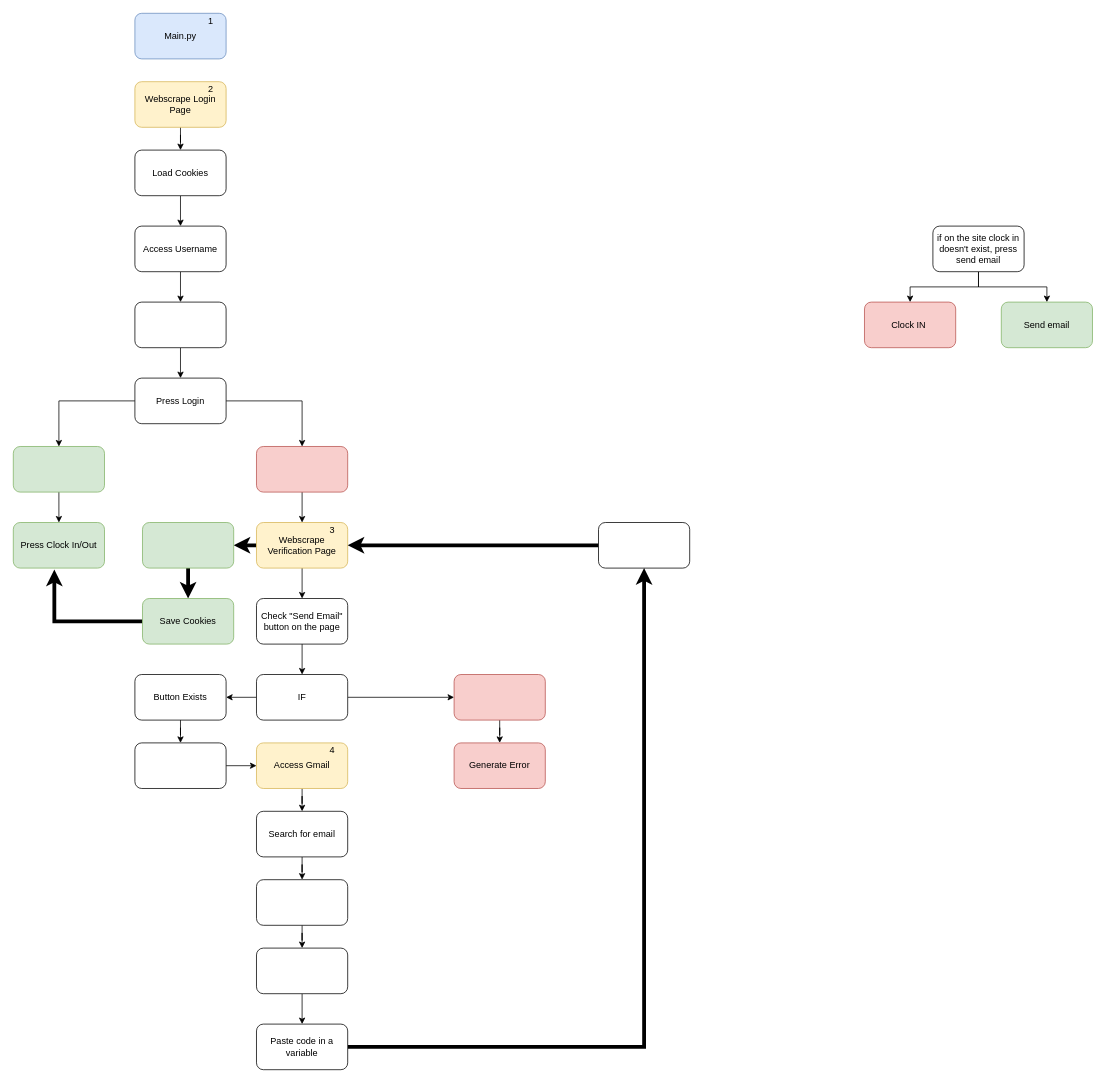
Image size: 1106x1083. Some labels were removed from this diagram. Each missing label, with the centre of its shape:
Access Code: point 644,545
Access Password: point 180,324
Button Not Exists: point 499,697
Copy Code: point 302,970
Error: point 302,469
Login: point 188,545
Press it: point 180,765
Search for Code: point 302,902
Success: point 58,469
